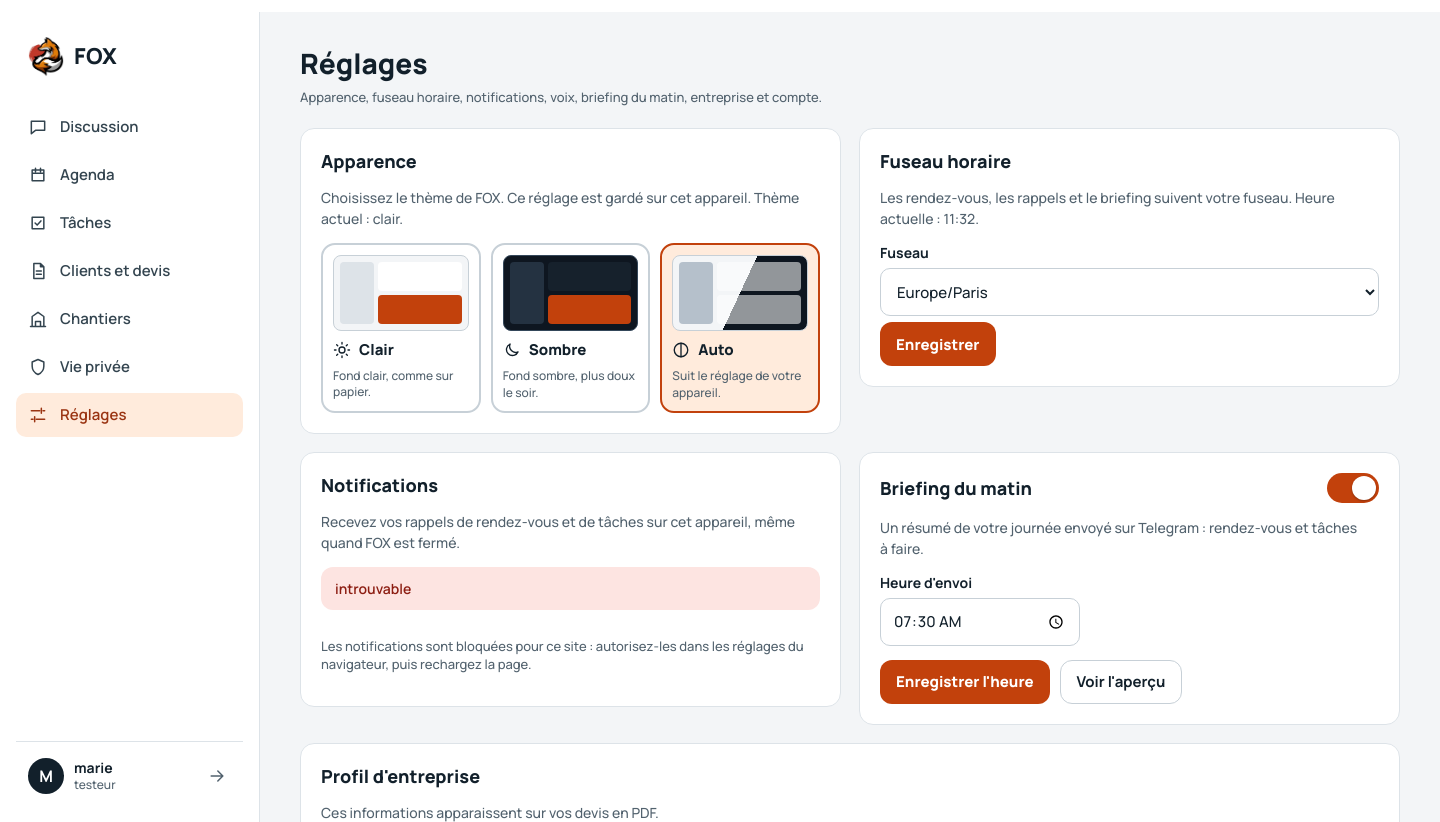
Test: Réglages › désactive le briefing et affiche l'aperçu
Click the switch named "Briefing du matin" at (1353, 488), box [1327,473,1379,503]
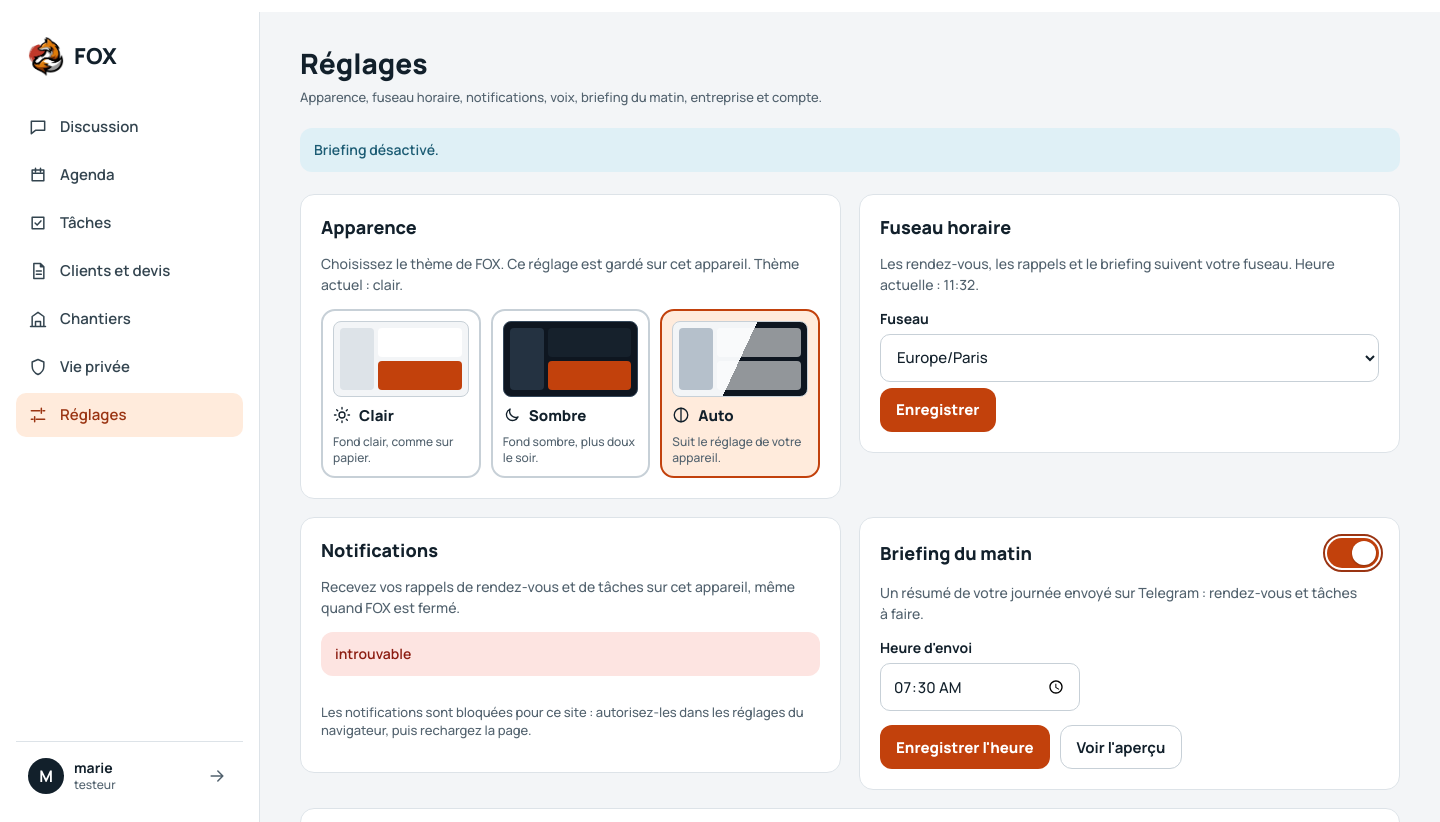
Click the button "Voir l'aperçu" at (1121, 747), box [1060,725,1182,769]
(page scrolled)
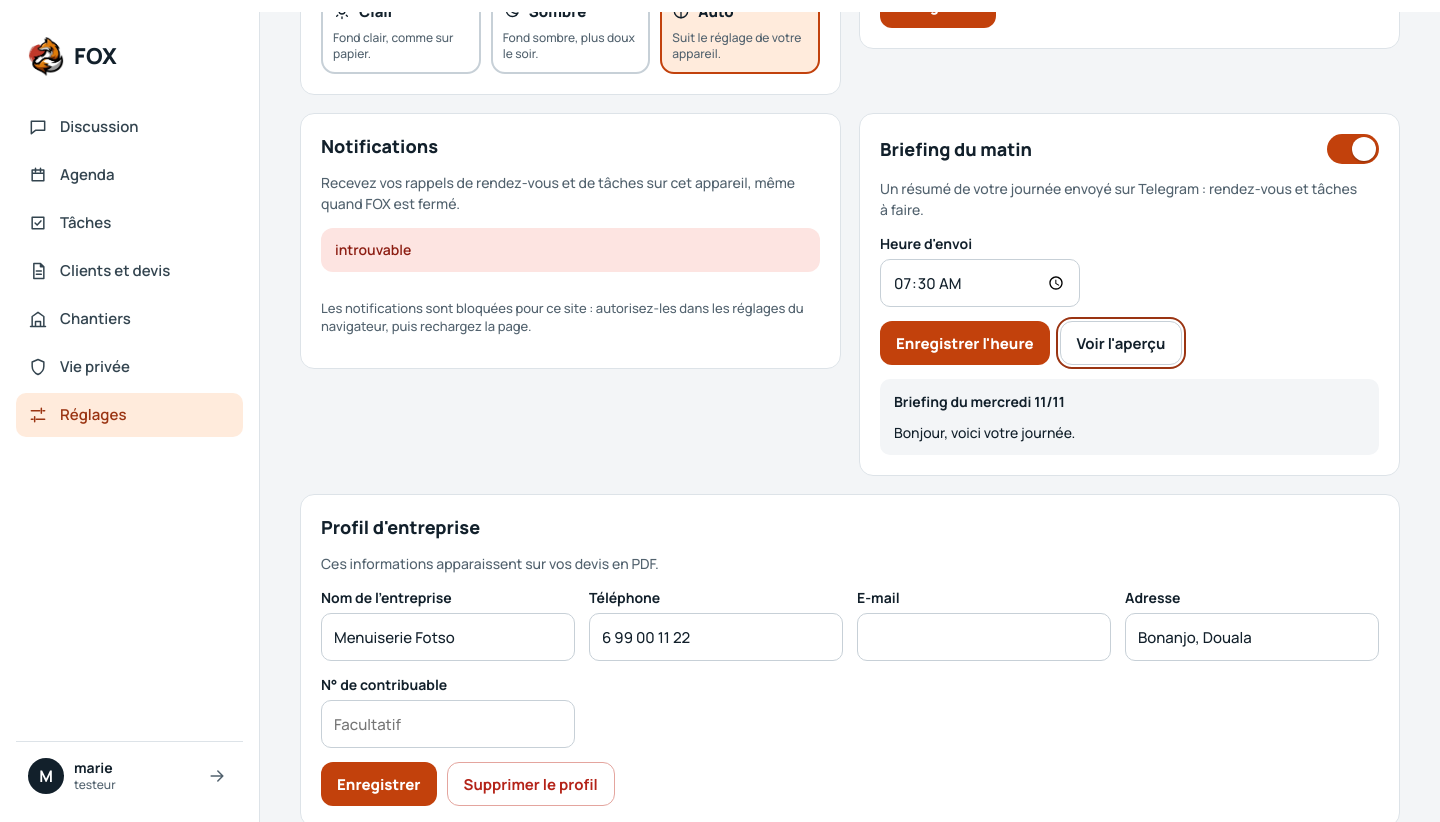
Expected: the element named "Aperçu du briefing" does not show "**", [880,379,1379,455]
Result: the element named "Aperçu du briefing" shows "Briefing du mercredi 11/11" at [894,392,1065,411]
Result: the element named "Aperçu du briefing" shows "Bonjour, voici votre journée." at [894,423,1075,442]
